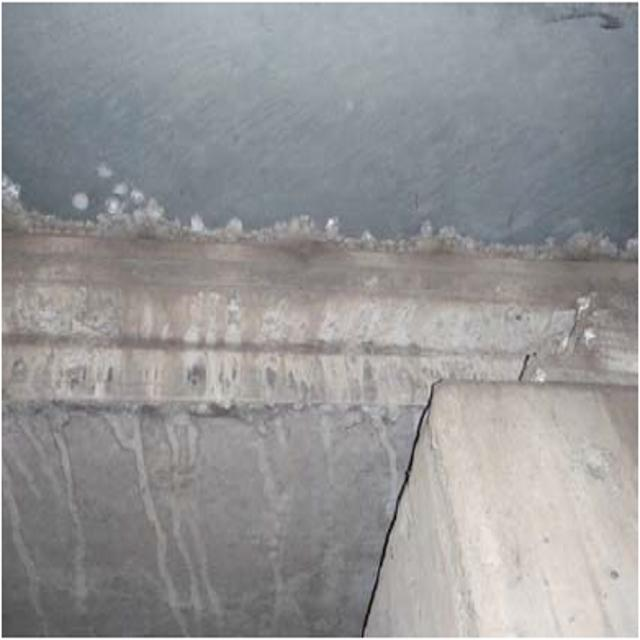crack: (323, 370, 443, 640)
